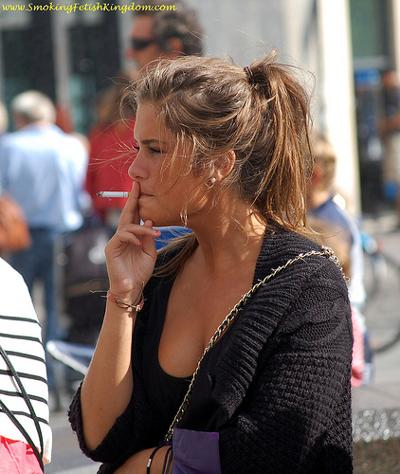person: (66, 55, 357, 474)
